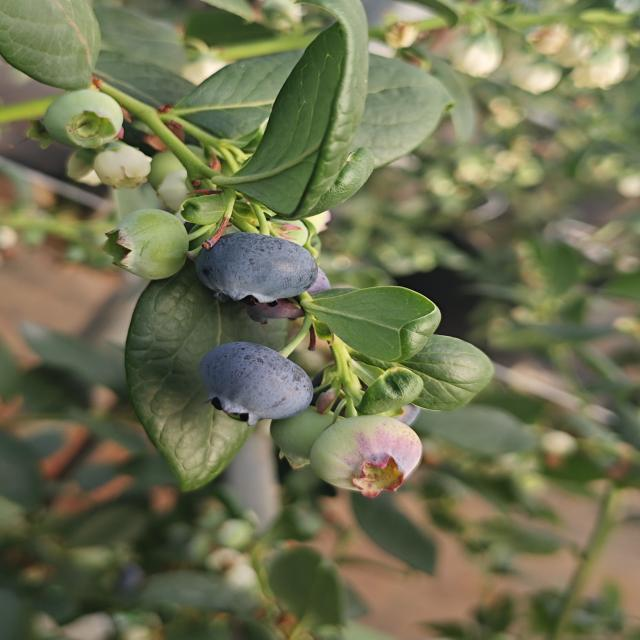ripe: (198, 339, 318, 426), (196, 228, 319, 305), (240, 264, 334, 322)
